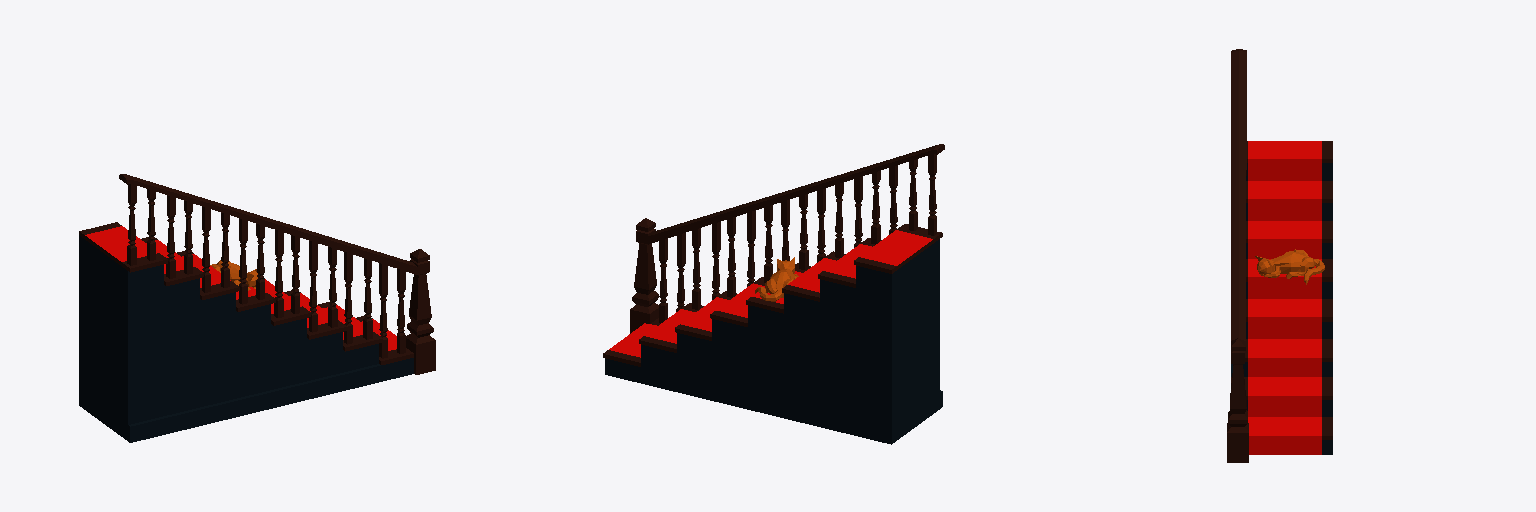
3 renders of one model, left to right at view 1: azimuth 30°, elevation 25°; view 2: azimuth 150°, elevation 25°; view 3: azimuth 270°, elevation 25°, orthographic.
Parts seen in each view (by area): view 1: group[number redacted], group[number redacted], group[number redacted], group[number redacted], group[number redacted], group[number redacted], group[number redacted], group[number redacted], group[number redacted], group[number redacted], group[number redacted], group[number redacted] (+6 smaller); view 2: group[number redacted], group[number redacted], group[number redacted], group[number redacted], group[number redacted], group[number redacted], group[number redacted], group[number redacted], group[number redacted], group[number redacted], group[number redacted], group[number redacted] (+2 smaller); view 3: group[number redacted], group[number redacted], group[number redacted].
Part boxes in pixels (bbox=[...]): group[number redacted]: bbox=[79, 222, 413, 442]; group[number redacted]: bbox=[119, 174, 417, 274]; group[number redacted]: bbox=[406, 249, 435, 374]; group[number redacted]: bbox=[379, 263, 387, 358]; group[number redacted]: bbox=[309, 241, 317, 332]; group[number redacted]: bbox=[344, 252, 352, 344]; group[number redacted]: bbox=[274, 230, 283, 317]; group[number redacted]: bbox=[202, 206, 210, 292]; group[number redacted]: bbox=[397, 269, 405, 353]; group[number redacted]: bbox=[239, 218, 247, 304]; group[number redacted]: bbox=[127, 184, 136, 265]; group[number redacted]: bbox=[166, 195, 175, 278]; group[number redacted]: bbox=[603, 224, 942, 444]; group[number redacted]: bbox=[648, 144, 944, 244]; group[number redacted]: bbox=[630, 218, 658, 333]; group[number redacted]: bbox=[659, 238, 667, 323]; group[number redacted]: bbox=[928, 154, 936, 235]; group[number redacted]: bbox=[692, 228, 700, 309]; group[number redacted]: bbox=[727, 217, 735, 297]; group[number redacted]: bbox=[799, 194, 808, 269]; group[number redacted]: bbox=[676, 233, 685, 311]; group[number redacted]: bbox=[712, 222, 720, 299]; group[number redacted]: bbox=[835, 182, 843, 257]; group[number redacted]: bbox=[871, 171, 880, 244]; group[number redacted]: bbox=[1231, 141, 1332, 454]; group[number redacted]: bbox=[1231, 49, 1246, 340]; group[number redacted]: bbox=[1227, 338, 1248, 462].
Bounding box in the file's own units: 1.57 × 1.3 × 0.4715.